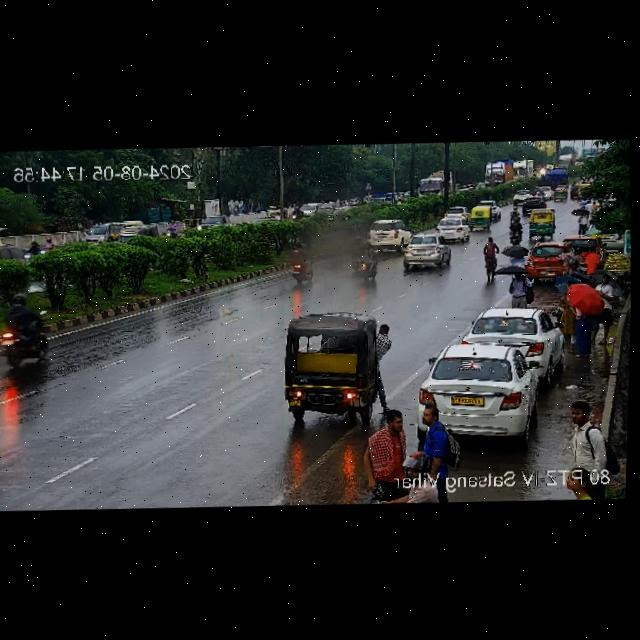car: (414, 337, 551, 442), (278, 308, 394, 426), (456, 303, 565, 384), (522, 241, 585, 283), (400, 233, 450, 272), (78, 215, 133, 248), (365, 218, 412, 251), (432, 218, 470, 246), (526, 207, 557, 239), (466, 203, 495, 231), (300, 200, 324, 219), (521, 197, 545, 214), (443, 206, 469, 218), (530, 185, 552, 199), (514, 189, 532, 203)
motorcycle: (0, 292, 50, 363), (286, 240, 317, 288), (40, 233, 56, 250), (165, 221, 179, 237)
person: (562, 399, 618, 499), (407, 404, 461, 499), (361, 406, 413, 503), (558, 275, 610, 359), (502, 269, 533, 309), (482, 238, 499, 270)
truck: (482, 159, 514, 191), (414, 169, 455, 193), (509, 158, 532, 183)
